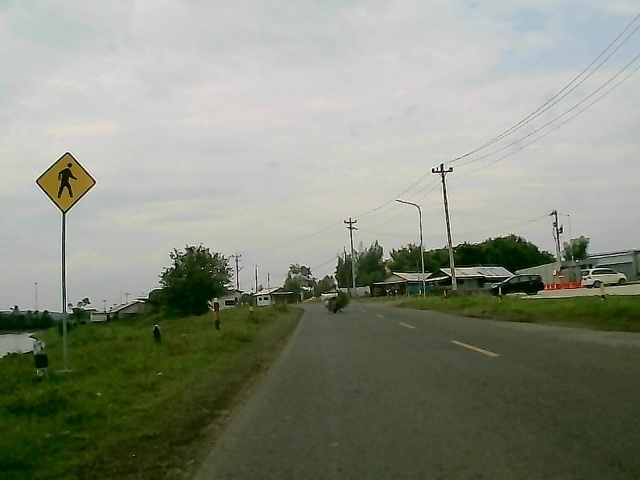Peringatan orang menyeberang: (31, 148, 101, 216)
